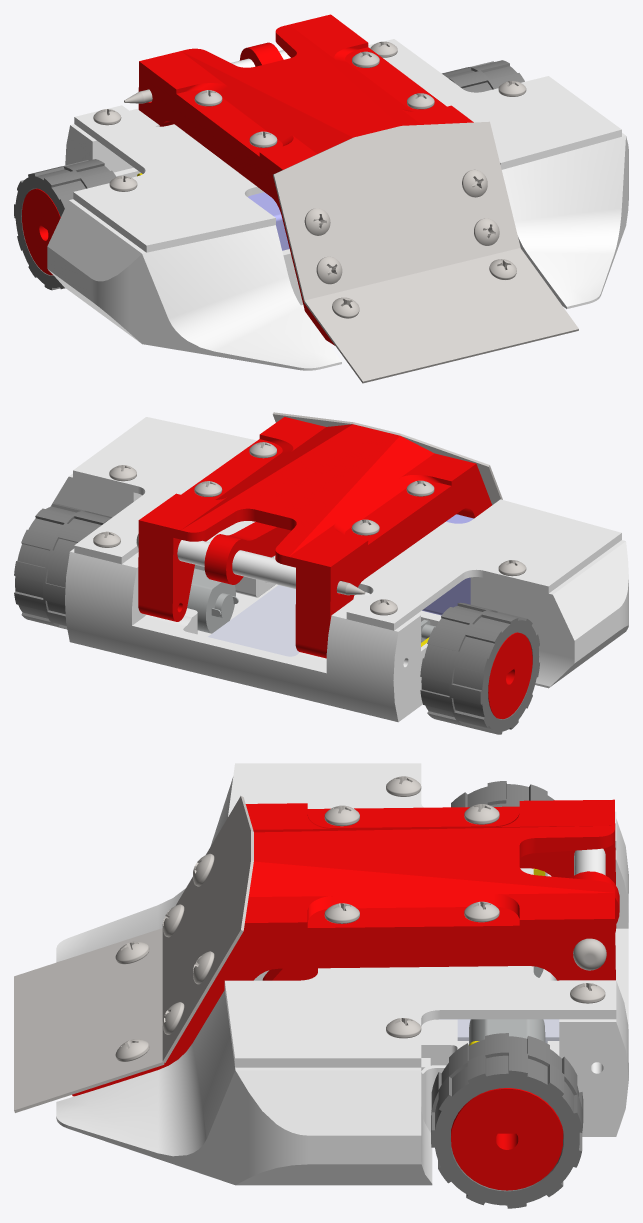
Rendered from flipper-robot.glb.
3 renders of one model, top to bottom at view 1: azimuth 30°, elevation 25°; view 2: azimuth 150°, elevation 25°; view 3: azimuth 270°, elevation 25°, orthographic. The views are drawn at different scales.
Parts seen in each view (by area): view 1: Body1, Body1:9, Body1:16, Body1:8, Body1:12, Body1:13, Body1:6, Body1:2, Body1:14, Body1:20, Body1:4, Body1:7 (+4 smaller); view 2: Body1, Body1:16, Body1:12, Body1:13, Body1:2, Body1:6, Body1:20, Body1:21, Body1:10, Body1:14, Body1:7, Body1:9 (+6 smaller); view 3: Body1, Body1:16, Body1:13, Body1:8, Body1:21, Body1:20, Body1:9, Body1:29, Body1:12, Body1:2, Body1:6, Body19:1 (+4 smaller).
Part boxes in pixels (x1=…): Body1: x1=47, y1=109, x2=628, y2=370; Body1:9: x1=273, y1=121, x2=520, y2=300; Body1:16: x1=139, y1=14, x2=473, y2=173; Body1:8: x1=304, y1=248, x2=578, y2=383; Body1:12: x1=73, y1=105, x2=275, y2=252; Body1:13: x1=368, y1=39, x2=621, y2=169; Body1:6: x1=138, y1=70, x2=334, y2=345; Body1:2: x1=14, y1=159, x2=116, y2=290; Body1:14: x1=22, y1=188, x2=60, y2=275; Body1:20: x1=442, y1=60, x2=524, y2=92; Body1:4: x1=248, y1=192, x2=289, y2=250; Body1:7: x1=239, y1=42, x2=283, y2=66; Body1: x1=50, y1=473, x2=628, y2=722; Body1:16: x1=138, y1=417, x2=478, y2=575; Body1:12: x1=346, y1=499, x2=621, y2=630; Body1:13: x1=73, y1=417, x2=256, y2=564; Body1:2: x1=420, y1=602, x2=539, y2=734; Body1:6: x1=295, y1=471, x2=491, y2=658; Body1:20: x1=14, y1=503, x2=111, y2=629; Body1:21: x1=138, y1=529, x2=218, y2=621; Body1:10: x1=208, y1=585, x2=299, y2=656; Body1:14: x1=488, y1=632, x2=532, y2=719; Body1:7: x1=204, y1=522, x2=290, y2=584; Body1:9: x1=272, y1=412, x2=502, y2=504; Body1: x1=56, y1=777, x2=628, y2=1185; Body1:16: x1=242, y1=799, x2=614, y2=934; Body1:13: x1=224, y1=966, x2=616, y2=1067; Body1:8: x1=14, y1=928, x2=164, y2=1112; Body1:21: x1=72, y1=921, x2=615, y2=1096; Body1:20: x1=431, y1=1033, x2=583, y2=1208; Body1:9: x1=162, y1=796, x2=253, y2=1062; Body1:29: x1=451, y1=1088, x2=563, y2=1190; Body1:12: x1=228, y1=763, x2=616, y2=874; Body1:2: x1=451, y1=781, x2=554, y2=807; Body1:6: x1=519, y1=823, x2=616, y2=932; Body19:1: x1=469, y1=1019, x2=545, y2=1045.
Bounding box in the file's own units: 12.2 × 3.79 × 9.69.
